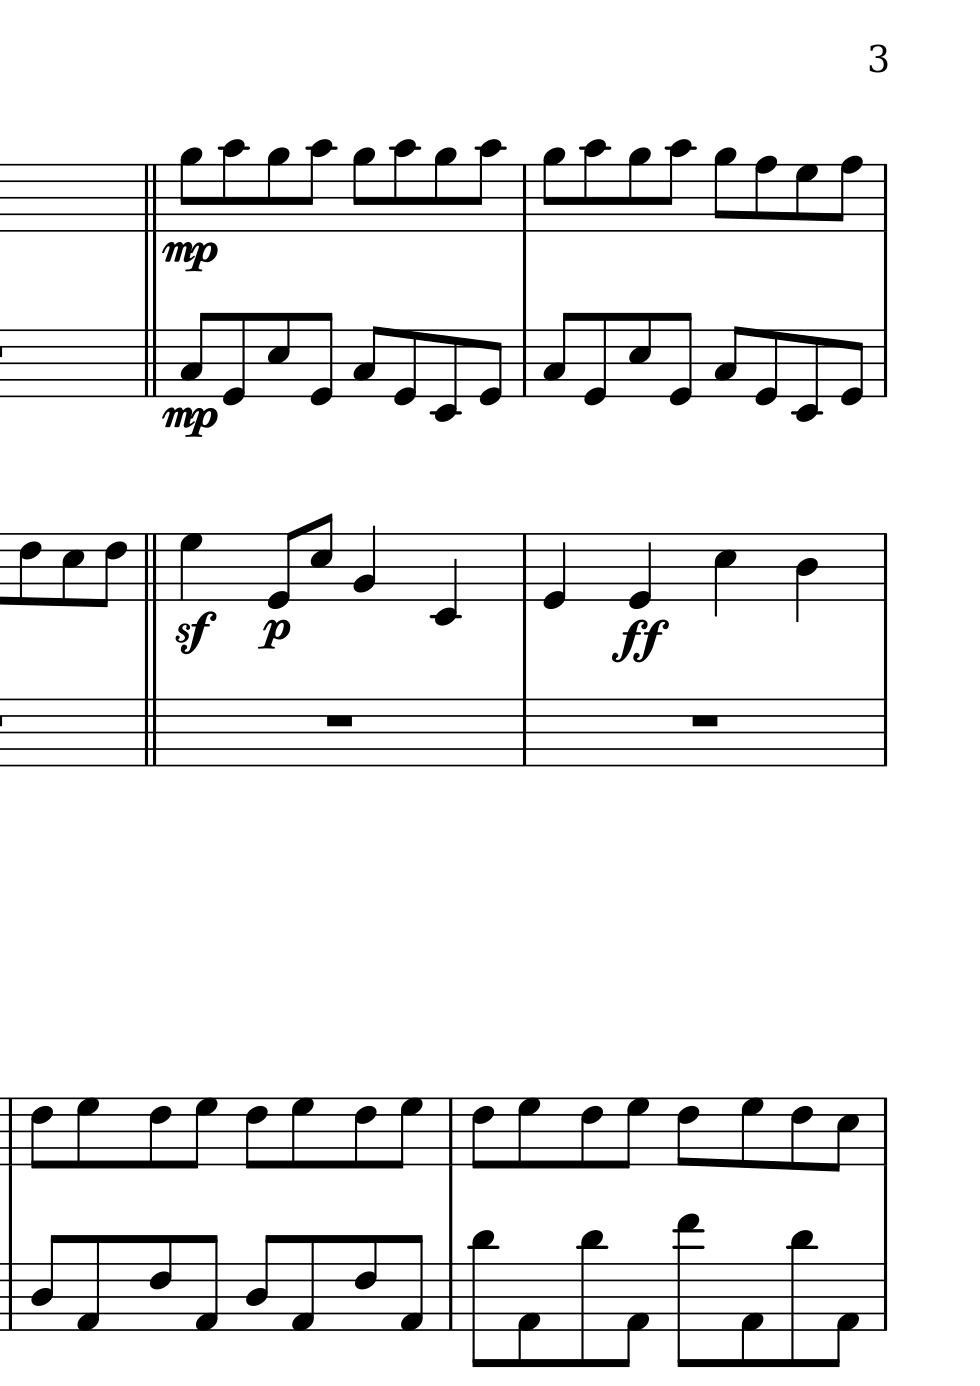3: (867, 42, 889, 75)
4_-2: (430, 530, 460, 627)
4_0: (541, 530, 568, 610), (626, 531, 653, 611)
4_2: (352, 524, 377, 602)
4_4: (792, 531, 819, 625)
4_5: (712, 530, 738, 620)
4_7: (177, 531, 206, 603)
8_-2: (428, 327, 461, 425), (791, 328, 822, 424)
8_0: (265, 526, 300, 610), (307, 310, 335, 410), (581, 310, 609, 410), (666, 311, 694, 410), (221, 310, 247, 408), (752, 326, 781, 409), (391, 327, 419, 409), (477, 327, 504, 407), (839, 328, 864, 407)
8_1: (618, 1260, 650, 1370), (830, 1260, 860, 1368), (396, 1233, 425, 1334), (515, 1261, 542, 1370), (74, 1233, 102, 1335), (288, 1232, 316, 1334), (192, 1232, 220, 1333), (738, 1261, 764, 1369)
8_10: (471, 139, 504, 235), (302, 138, 334, 235), (661, 138, 693, 234), (218, 138, 248, 234), (580, 137, 608, 234), (390, 137, 417, 234)
8_11: (468, 1229, 497, 1370), (576, 1228, 605, 1369), (787, 1228, 815, 1370)
8_13: (672, 1212, 702, 1370)
8_3: (541, 310, 574, 399), (178, 310, 211, 397), (351, 324, 383, 399), (712, 324, 743, 399)
8_4: (243, 1233, 277, 1332), (29, 1233, 62, 1333)
8_5: (826, 1094, 859, 1173), (263, 310, 292, 399), (625, 310, 653, 398), (308, 511, 334, 602), (59, 530, 85, 610)
8_6: (95, 530, 129, 609), (147, 1232, 173, 1333), (352, 1232, 378, 1333), (468, 1095, 495, 1170), (16, 531, 42, 607), (788, 1095, 813, 1173), (242, 1096, 268, 1171), (146, 1095, 172, 1171), (28, 1096, 53, 1171), (578, 1096, 603, 1171), (673, 1096, 700, 1168), (352, 1095, 377, 1171)
8_7: (183, 1095, 218, 1170), (388, 1095, 423, 1170), (615, 1094, 649, 1170), (74, 1096, 101, 1170), (288, 1096, 315, 1169), (738, 1096, 765, 1169), (515, 1096, 541, 1169), (793, 162, 818, 234)
8_8: (829, 154, 863, 234), (752, 154, 778, 234)
8_9: (350, 146, 377, 235), (625, 146, 651, 234), (264, 146, 290, 234), (431, 147, 456, 235), (541, 146, 566, 234), (712, 147, 737, 234), (178, 146, 203, 232)
Double_barline: (135, 698, 167, 768), (138, 329, 163, 397), (139, 533, 164, 601), (139, 164, 163, 231)
Rests1: (687, 710, 721, 729), (322, 712, 356, 729)
Single_barline: (515, 534, 536, 600), (514, 699, 533, 767), (442, 1098, 460, 1166), (515, 164, 533, 232), (875, 698, 893, 766), (876, 533, 893, 601), (442, 1263, 459, 1330), (876, 1264, 893, 1331), (877, 1098, 893, 1165), (517, 330, 532, 397), (877, 164, 892, 232), (877, 330, 892, 398), (2, 1263, 17, 1330), (3, 1098, 17, 1166)
ff: (607, 615, 672, 667)
mp: (159, 403, 220, 444), (158, 238, 218, 276)
p: (256, 617, 291, 651)
sf: (173, 610, 215, 655)
